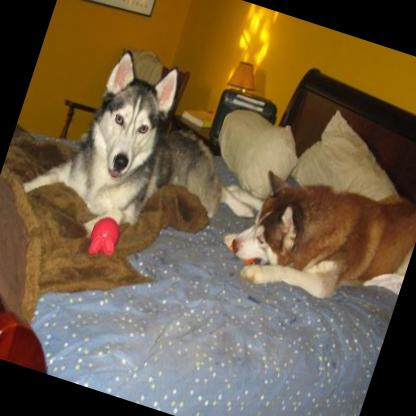Siberian_husky: (13, 29, 295, 288), (222, 150, 416, 326)
